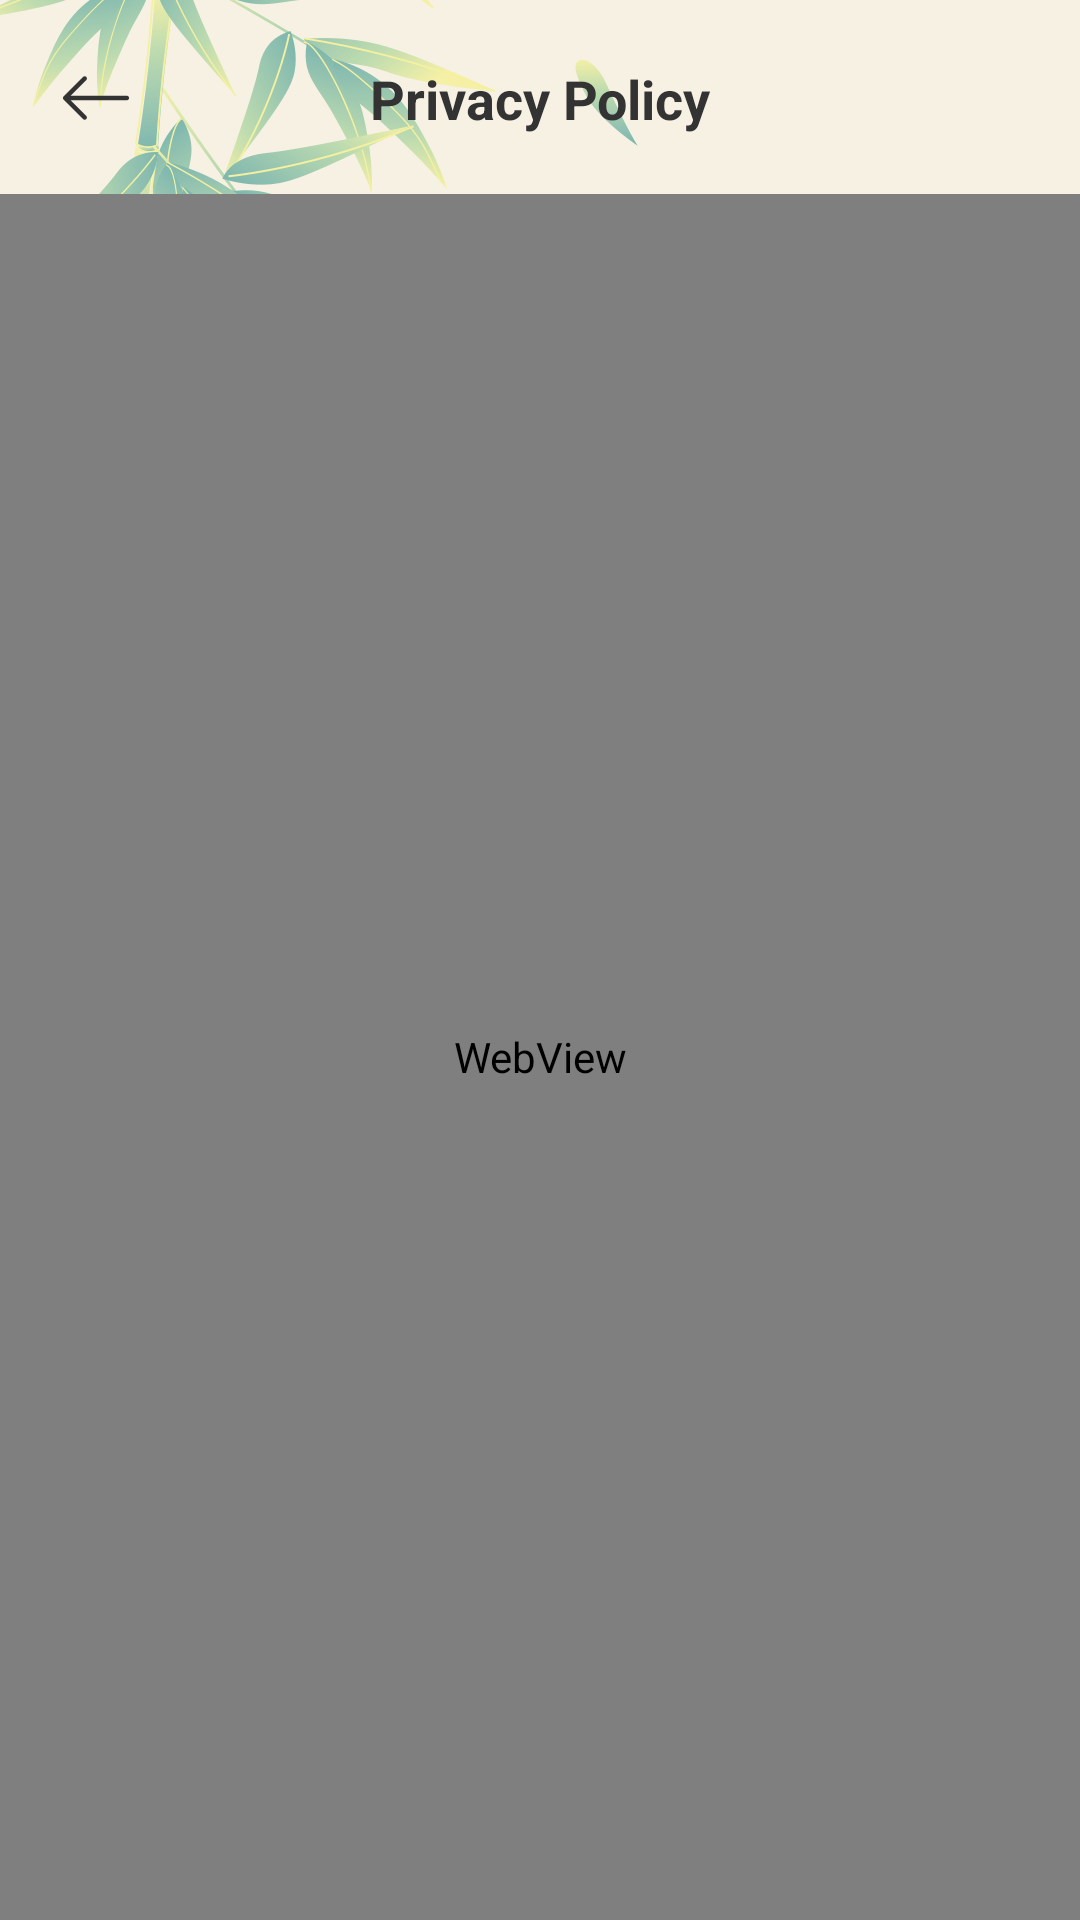

Screen size 1080x1920. Icon name, then its box in pixels as (x1, y1, x2, y2):
back: (60, 62, 129, 120)
